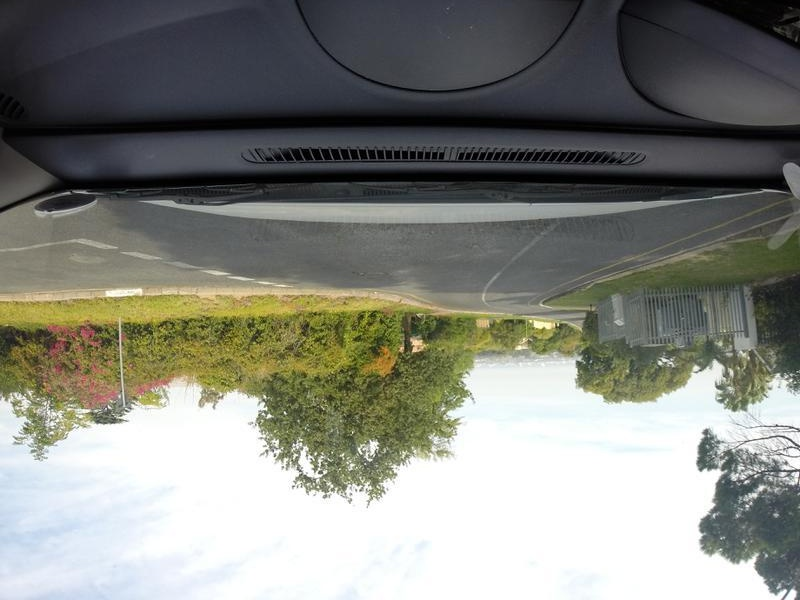pothole: (356, 271, 387, 279)
